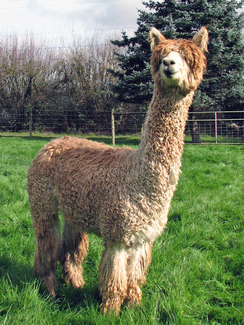alpaca: (26, 24, 207, 317)
